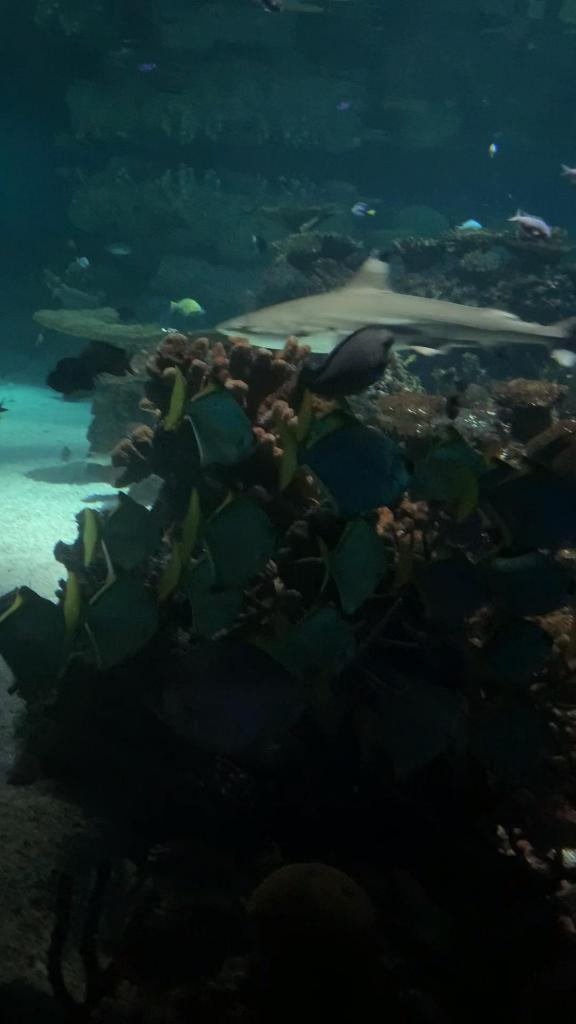fish: (143, 634, 299, 750), (274, 408, 410, 514), (470, 456, 574, 554), (61, 564, 158, 664), (356, 686, 458, 780), (162, 363, 253, 463), (454, 695, 550, 789), (0, 584, 75, 704), (184, 486, 272, 586), (294, 324, 392, 408), (160, 546, 242, 636), (392, 552, 484, 626), (315, 516, 384, 610), (470, 552, 566, 618), (416, 430, 496, 506), (82, 492, 162, 568), (274, 606, 353, 680), (472, 624, 550, 684), (504, 206, 556, 242), (167, 296, 207, 318), (102, 238, 134, 258), (351, 200, 379, 220), (452, 218, 484, 234), (557, 162, 575, 184), (136, 59, 156, 73), (486, 140, 498, 160), (334, 100, 354, 112)
shark: (211, 253, 574, 357)
